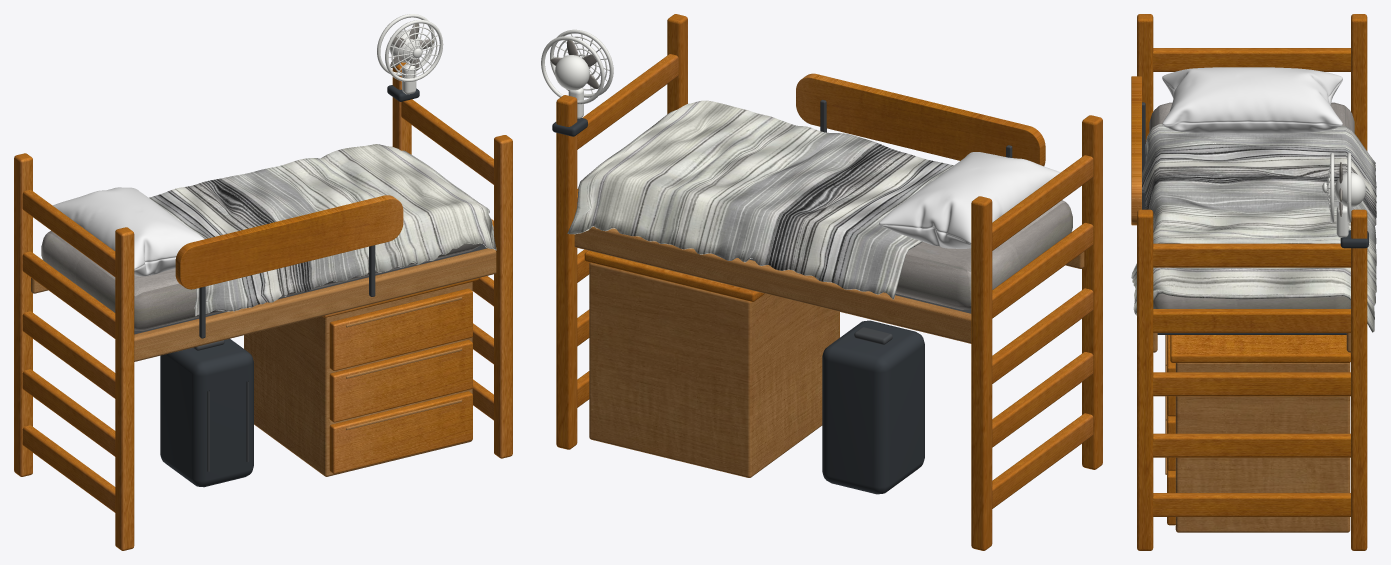
The model's file is bed-web.glb.
3 views of the same model, side by side, from view 1: azimuth 30°, elevation 25°; view 2: azimuth 150°, elevation 25°; view 3: azimuth 270°, elevation 25° (orthographic). The views are drawn at different scales.
Visible parts, largest first — view 1: Striped comforter, Under-bed suitcase, Dresser cabinet, Rounded wooden safety rail, Mattress support rail, Drawer 2, Drawer 3, Drawer 1, Oak bedpost, Pillow 01, White fitted mattress, Oak bedpost.002 (+10 smaller); view 2: Striped comforter, Dresser cabinet, Under-bed suitcase, Rounded wooden safety rail, Mattress support rail.001, Pillow 01, Oak bedpost.001, Oak bedpost.003, White fitted mattress, Oak bedpost, End frame rung.001, End frame rung.004 (+8 smaller); view 3: Striped comforter, Dresser cabinet, Pillow 01, Oak bedpost.002, Oak bedpost.003, Dresser top, End frame rung.006, End frame rung.007, End frame rung.009, End frame rung.005, End frame rung.008, End frame rung.004 (+11 smaller).
Boxes of the visible parts, bbox=[...] form: Striped comforter: bbox=[149, 144, 496, 316]; Under-bed suitcase: bbox=[160, 338, 253, 487]; Dresser cabinet: bbox=[244, 282, 472, 476]; Rounded wooden safety rail: bbox=[175, 195, 403, 289]; Mattress support rail: bbox=[134, 248, 496, 361]; Drawer 2: bbox=[329, 340, 472, 422]; Drawer 3: bbox=[329, 288, 472, 370]; Drawer 1: bbox=[329, 391, 472, 473]; Oak bedpost: bbox=[115, 227, 134, 550]; Pillow 01: bbox=[52, 187, 204, 276]; White fitted mattress: bbox=[41, 230, 480, 330]; Oak bedpost.002: bbox=[494, 135, 512, 458]; Striped comforter: bbox=[567, 100, 953, 299]; Dresser cabinet: bbox=[589, 262, 839, 477]; Under-bed suitcase: bbox=[822, 320, 924, 494]; Rounded wooden safety rail: bbox=[796, 73, 1045, 166]; Mattress support rail.001: bbox=[574, 226, 971, 343]; Pillow 01: bbox=[879, 152, 1060, 248]; Oak bedpost.001: bbox=[971, 196, 992, 550]; Oak bedpost.003: bbox=[556, 95, 577, 449]; White fitted mattress: bbox=[895, 200, 1072, 309]; Oak bedpost: bbox=[1082, 115, 1102, 469]; End frame rung.001: bbox=[992, 352, 1093, 447]; End frame rung.004: bbox=[992, 155, 1093, 250]; Striped comforter: bbox=[1131, 124, 1376, 332]; Dresser cabinet: bbox=[1175, 363, 1350, 532]; Pillow 01: bbox=[1162, 67, 1342, 133]; Oak bedpost.002: bbox=[1137, 209, 1153, 550]; Oak bedpost.003: bbox=[1351, 209, 1367, 550]; Dresser top: bbox=[1170, 335, 1350, 362]; End frame rung.006: bbox=[1153, 433, 1350, 457]; End frame rung.007: bbox=[1153, 372, 1350, 396]; End frame rung.009: bbox=[1153, 243, 1350, 267]; End frame rung.005: bbox=[1153, 493, 1350, 516]; End frame rung.008: bbox=[1153, 309, 1350, 332]; End frame rung.004: bbox=[1153, 48, 1350, 71].
Bounding box in the file's own units: 2.31 × 1.98 × 1.12.
Materials: 11 (7 with a texture image).
